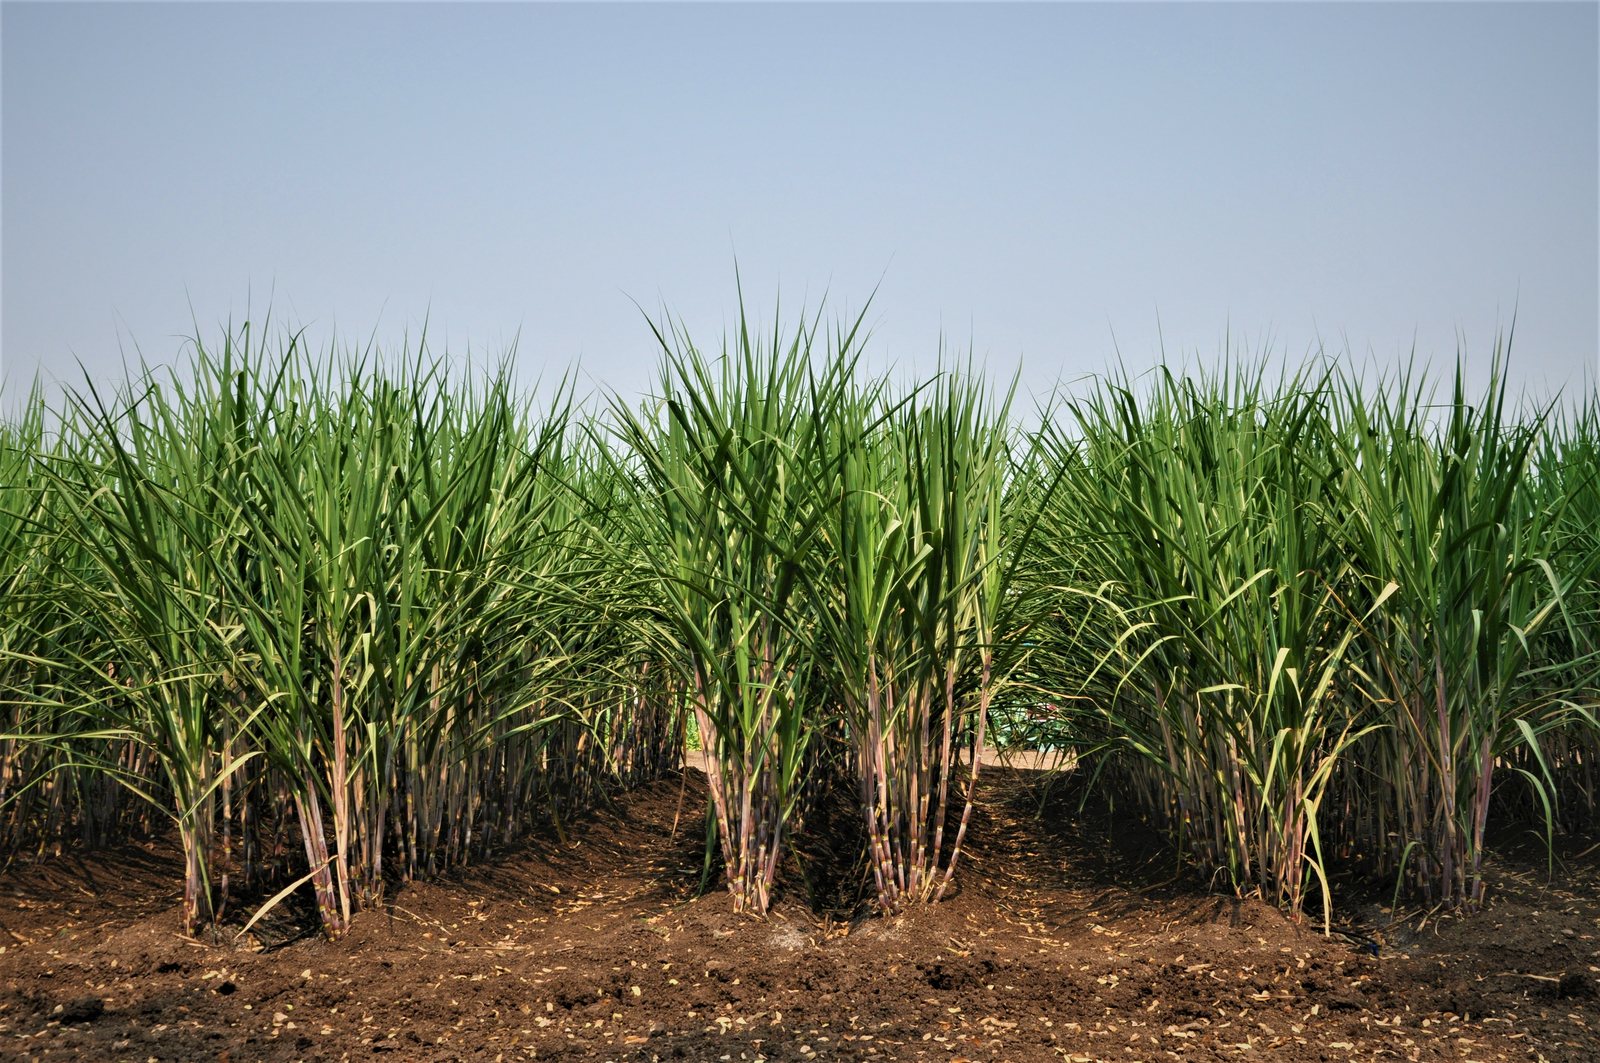sugarcane: (657, 316, 1030, 932), (151, 268, 431, 937), (1084, 350, 1366, 923), (1328, 300, 1550, 924), (1, 343, 116, 887)
